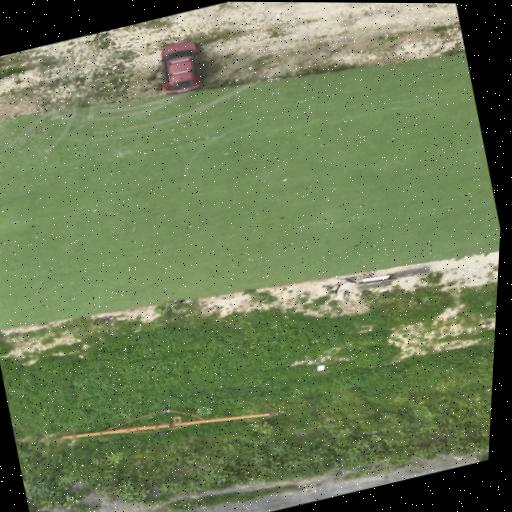car: (160, 40, 199, 92)
